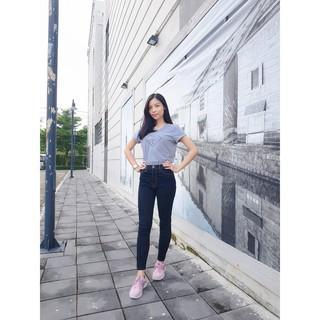Tshirt: (135, 123, 187, 170)
pants: (137, 163, 178, 273)
